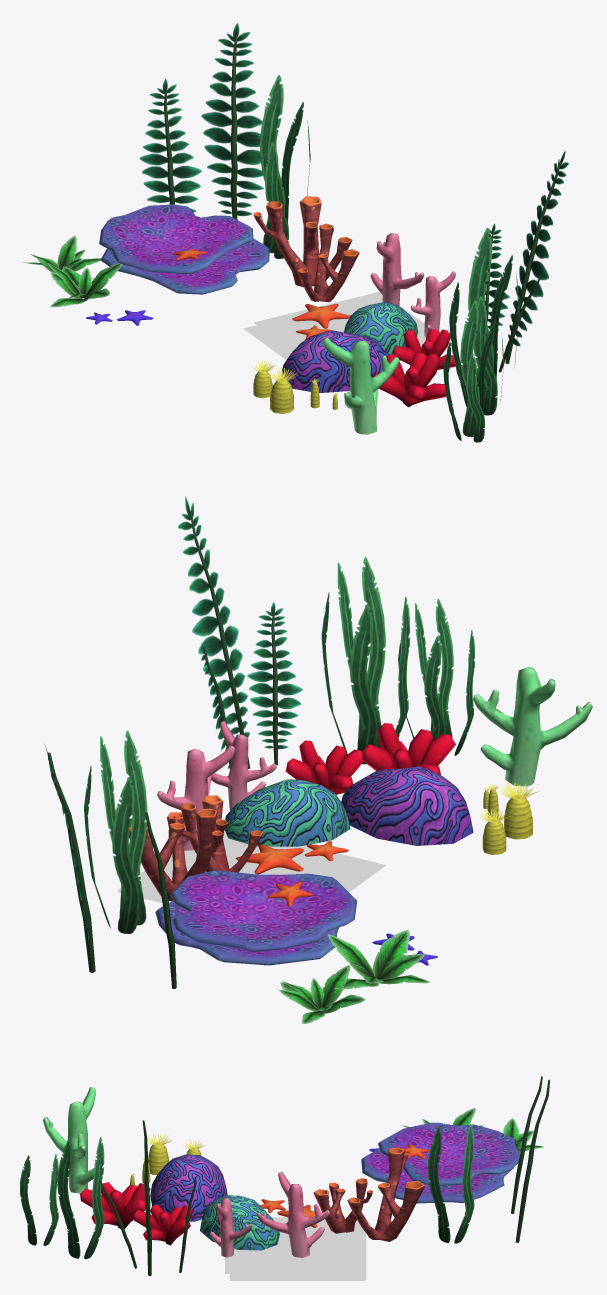
Rendered from corals.glb.
3 renders of one model, top to bottom at view 1: azimuth 30°, elevation 25°; view 2: azimuth 150°, elevation 25°; view 3: azimuth 270°, elevation 25°, orthographic. The views are drawn at different scales.
Parts seen in each view (by area): view 1: _gltfNode_1, _gltfNode_2, _gltfNode_0, WaterSurfaceTest, WaterSurfaceTest.001, WaterSurfaceTest.002; view 2: _gltfNode_1, _gltfNode_2, _gltfNode_0, WaterSurfaceTest.001, WaterSurfaceTest.002, WaterSurfaceTest; view 3: _gltfNode_1, _gltfNode_2, WaterSurfaceTest.001, _gltfNode_0, WaterSurfaceTest, WaterSurfaceTest.002.
Boxes of the visible parts, bbox=[...] form: _gltfNode_1: bbox=[23, 23, 568, 442]; _gltfNode_2: bbox=[99, 204, 269, 294]; _gltfNode_0: bbox=[344, 302, 418, 354]; WaterSurfaceTest: bbox=[256, 293, 451, 350]; WaterSurfaceTest.001: bbox=[253, 292, 449, 351]; WaterSurfaceTest.002: bbox=[243, 298, 421, 360]; _gltfNode_1: bbox=[44, 496, 592, 1023]; _gltfNode_2: bbox=[155, 870, 357, 965]; _gltfNode_0: bbox=[225, 779, 350, 846]; WaterSurfaceTest.001: bbox=[118, 830, 364, 903]; WaterSurfaceTest.002: bbox=[187, 831, 385, 892]; WaterSurfaceTest: bbox=[117, 845, 290, 902]; _gltfNode_1: bbox=[20, 1076, 549, 1276]; _gltfNode_2: bbox=[361, 1122, 519, 1203]; WaterSurfaceTest.001: bbox=[231, 1231, 366, 1280]; _gltfNode_0: bbox=[200, 1195, 279, 1250]; WaterSurfaceTest: bbox=[229, 1224, 363, 1280]; WaterSurfaceTest.002: bbox=[225, 1217, 359, 1273].
Bounding box in the file's own units: 17.65 × 9.8 × 25.83.
3 materials, 3 textured.
